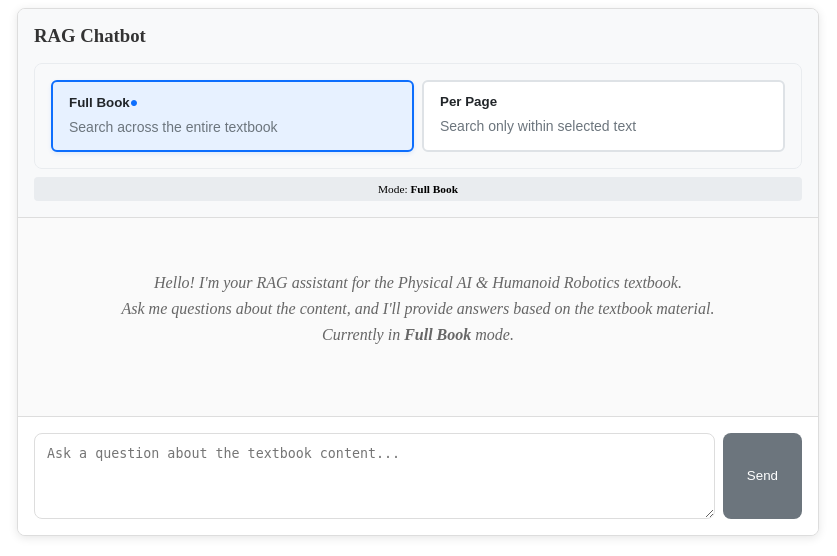
Test: ChatInterface Component - Unit Tests › disables submit button when input is empty
expect the button "Send" is disabled: met, box [723,433,802,519]
Type "Non-empty text" into the text box with placeholder "Ask a question about the textbook content..." at (374, 476), box [34,433,715,519]
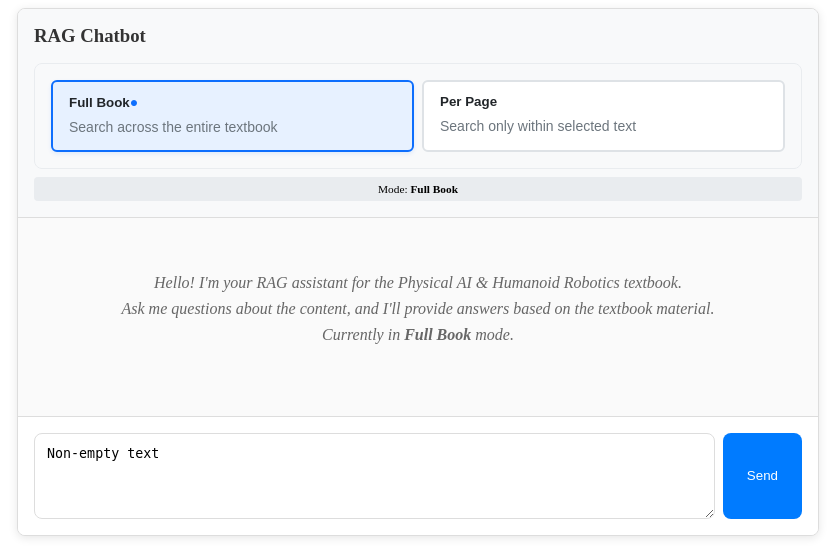
expect the button "Send" is enabled: met, box [723,433,802,519]
